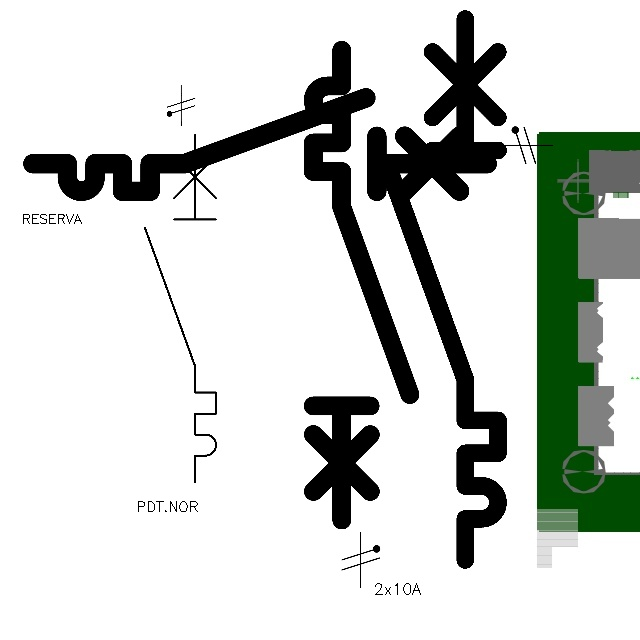interruptor_termomagnetico: (373, 5, 512, 574), (301, 38, 422, 532), (21, 86, 499, 203), (136, 126, 225, 490)
